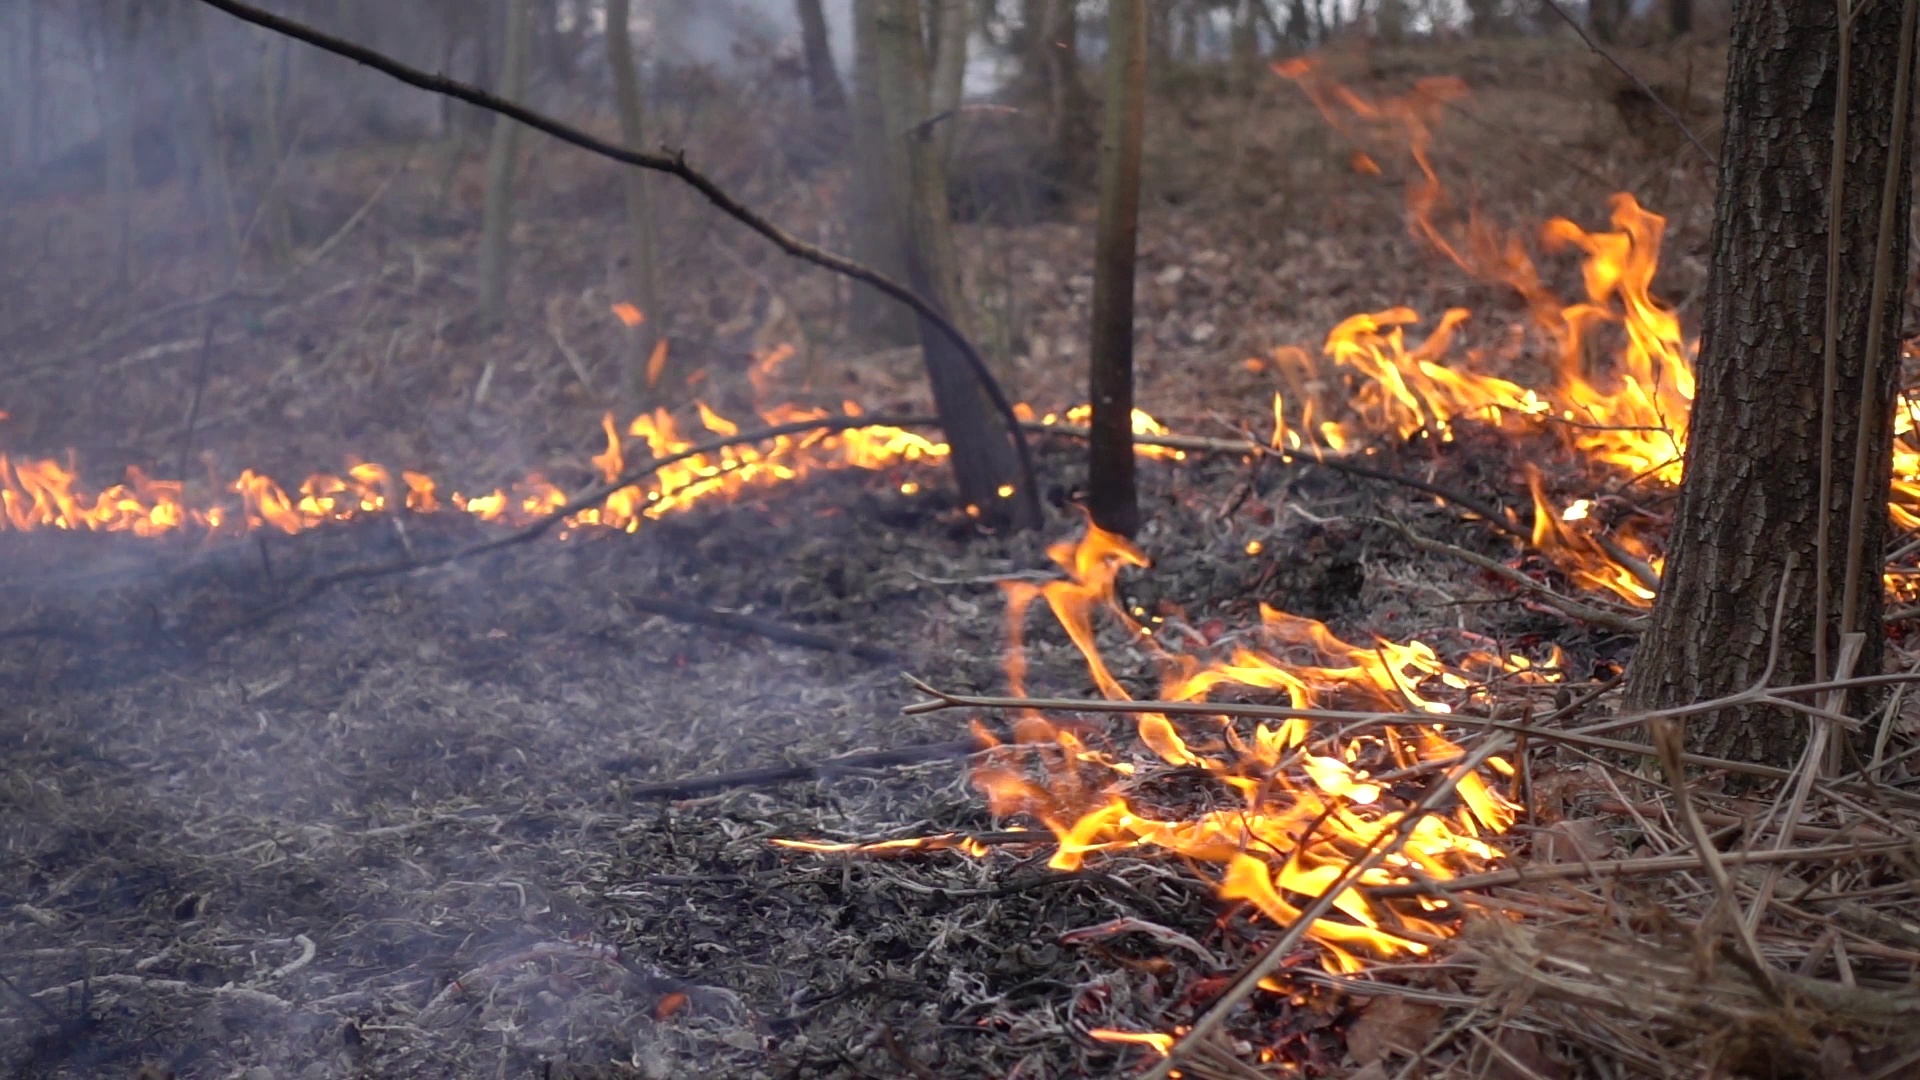fire: (990, 578, 1507, 975), (1274, 199, 1692, 469), (570, 402, 948, 525), (1, 446, 430, 531), (1891, 398, 1920, 529), (1131, 407, 1170, 465), (459, 487, 506, 520)
